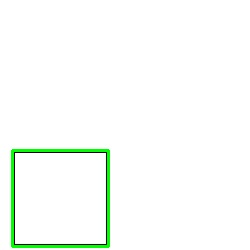line_segment: (11, 149, 110, 248)
